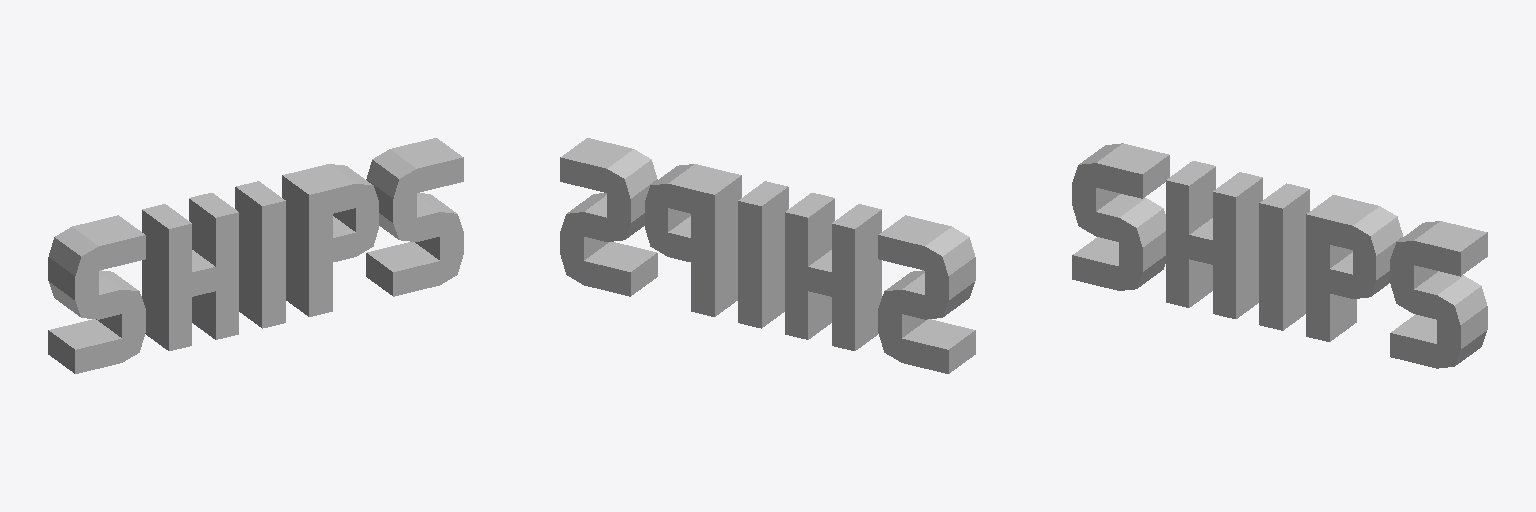
Rendered from ships.obj.
3 renders of one model, left to right at view 1: azimuth 30°, elevation 25°; view 2: azimuth 150°, elevation 25°; view 3: azimuth 330°, elevation 25°, orthographic.
Visible parts, largest first — view 1: mergedBlocks; view 2: mergedBlocks; view 3: mergedBlocks.
Part boxes in pixels (left/top/right/bottom): mergedBlocks: left=48, top=138, right=463, bottom=373; mergedBlocks: left=560, top=138, right=975, bottom=373; mergedBlocks: left=1072, top=143, right=1487, bottom=368.
Size of the model in its own units: 1.66 by 0.5 by 0.2.